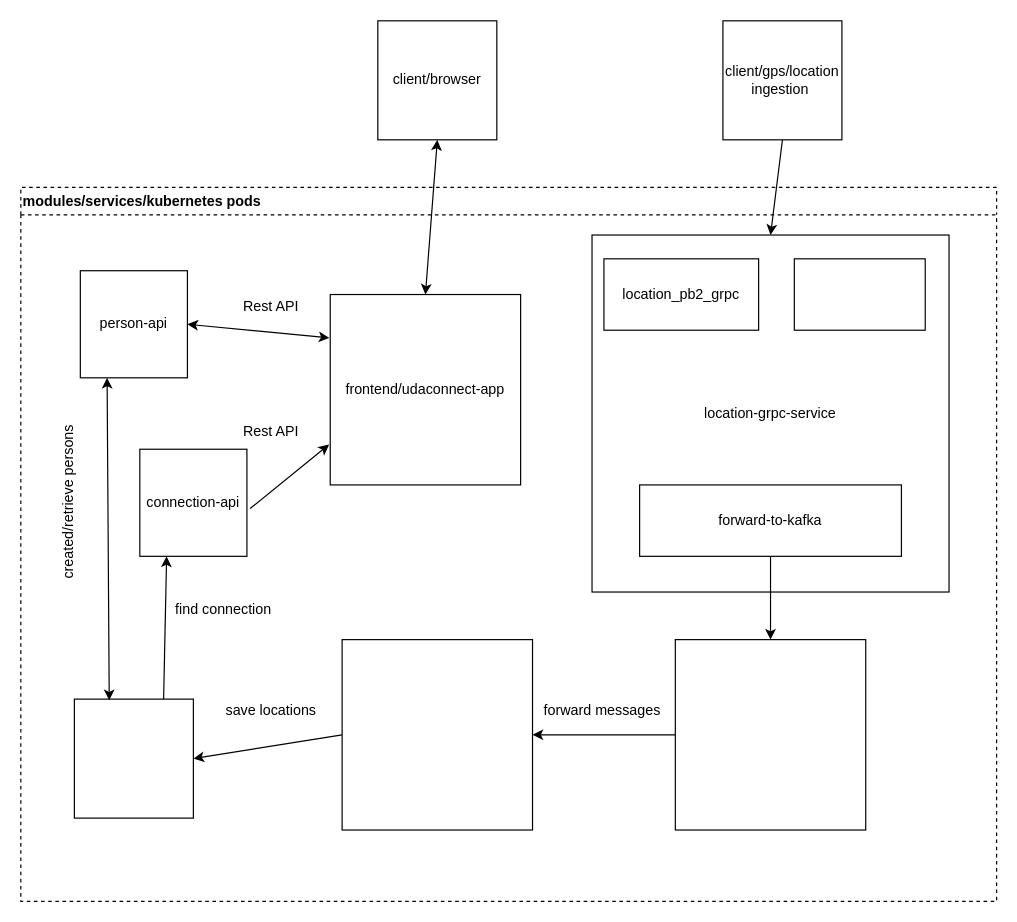
This 1017x922 diagram has some shape labels left out. The centre of each missing label's shape, as x and y in pixels:
"database" belongs at [133,758].
"kafak server" belongs at [770,734].
"location-kafka-service" belongs at [437,734].
"location_pb2" belongs at [859,294].
